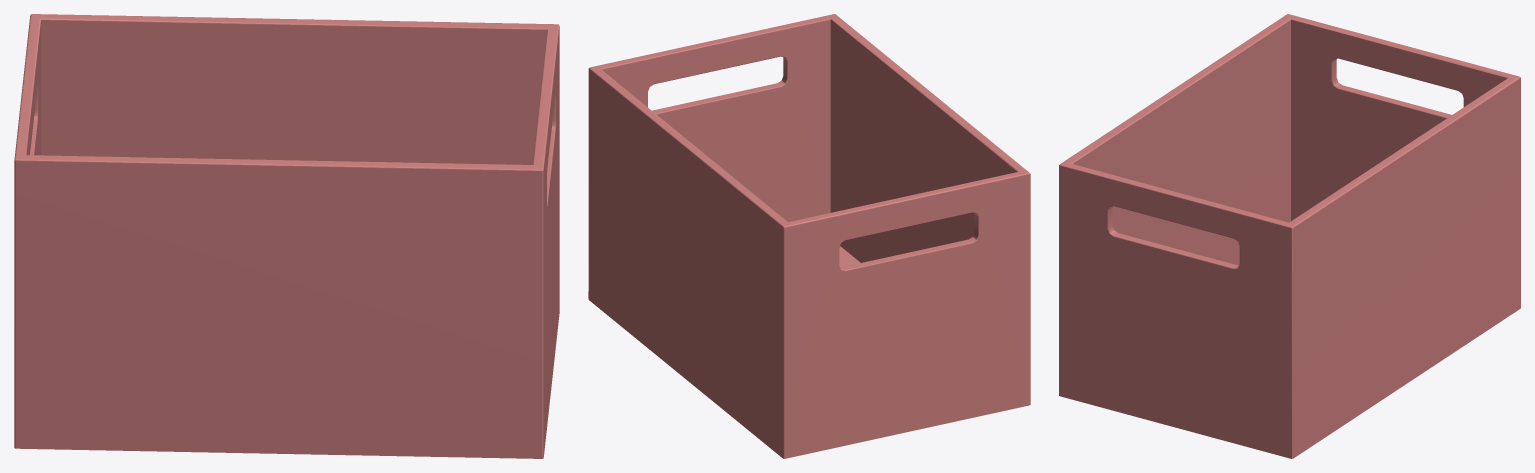
The picture shows the model from 3 angles, left to right: view 1: azimuth 30°, elevation 25°; view 2: azimuth 150°, elevation 25°; view 3: azimuth 270°, elevation 25°; orthographic projection. The views are drawn at different scales.
Parts seen in each view (by area): view 1: pCube22; view 2: pCube22; view 3: pCube22.
Boxes of the visible parts, <box> form: pCube22: <box>14,14,559,458</box>; pCube22: <box>588,14,1030,458</box>; pCube22: <box>1059,14,1520,458</box>.
Size of the model in its own units: 0.5144 by 0.2595 by 0.469.
